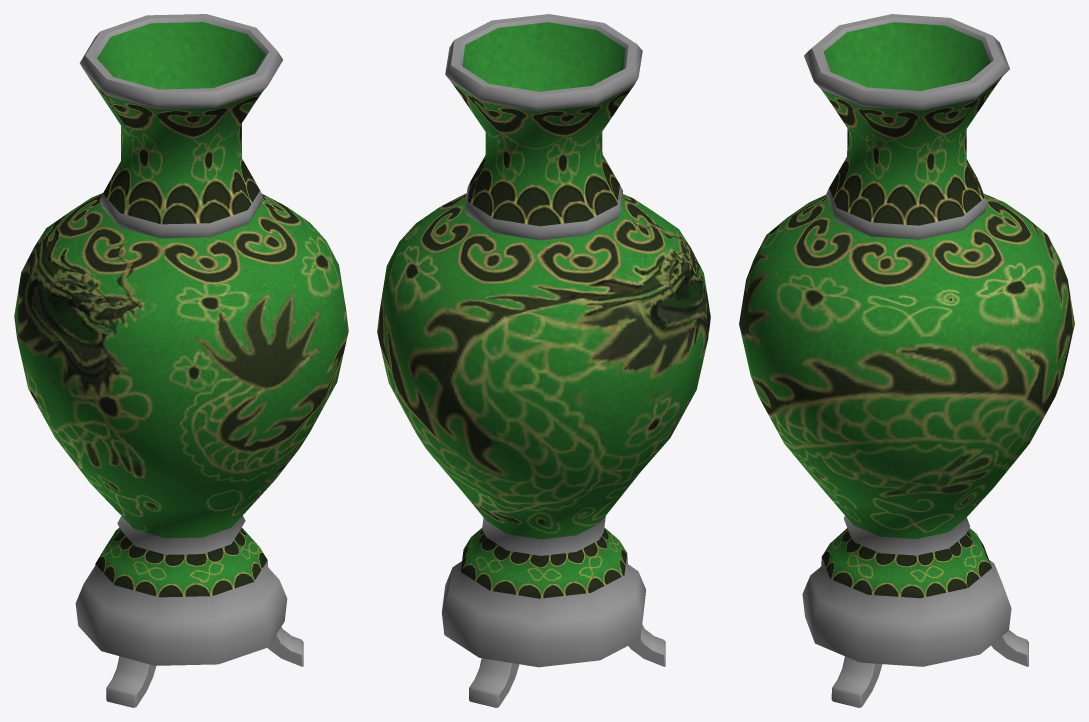
The model's file is YJG01.FBX.
3 views of the same model, side by side, from view 1: azimuth 30°, elevation 25°; view 2: azimuth 150°, elevation 25°; view 3: azimuth 270°, elevation 25° (orthographic).
Parts seen in each view (by area): view 1: YJG01; view 2: YJG01; view 3: YJG01.
Part boxes in pixels (x1,y1,x2,y2): YJG01: (14, 14, 348, 707); YJG01: (377, 14, 710, 707); YJG01: (739, 14, 1074, 707).
Bounding box in the file's own units: 12.55 × 24.98 × 12.55.
